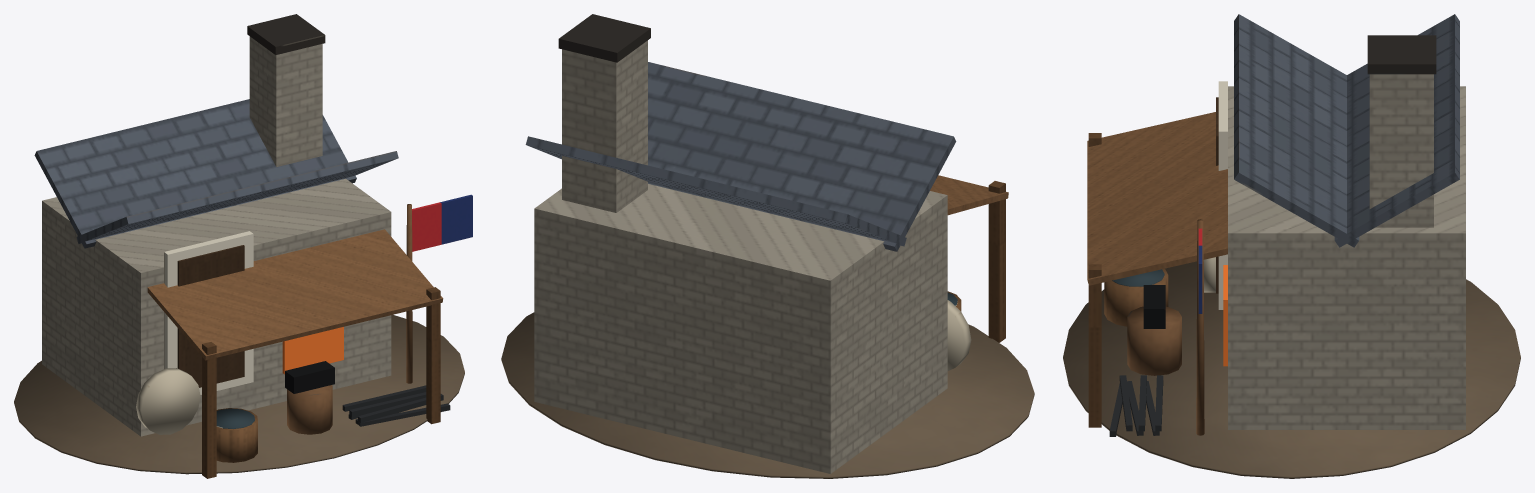
Rendered from smithy_br.glb.
3 renders of one model, left to right at view 1: azimuth 30°, elevation 25°; view 2: azimuth 150°, elevation 25°; view 3: azimuth 270°, elevation 25°, orthographic. The views are drawn at different scales.
Visible parts, largest first — view 1: smithy_br; view 2: smithy_br; view 3: smithy_br.
Part boxes in pixels (x1,y1,x2,y2): smithy_br: (14,14,472,478); smithy_br: (501,14,1034,478); smithy_br: (1063,14,1520,478).
Size of the model in its own units: 6.2 by 4.38 by 5.
1 material, 1 textured.
